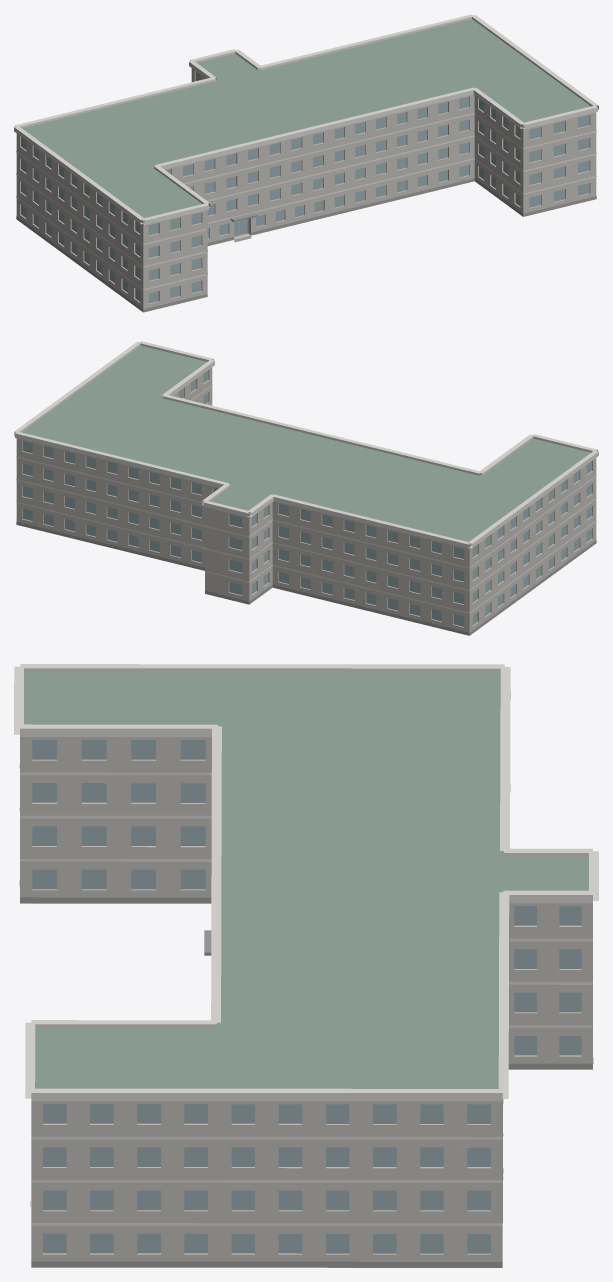
The picture shows the model from 3 angles, top to bottom: view 1: azimuth 30°, elevation 25°; view 2: azimuth 150°, elevation 25°; view 3: azimuth 270°, elevation 25°; orthographic projection. The views are drawn at different scales.
Parts seen in each view (by area): view 1: b115951794__wall, b115951794__roof, b115951794__trim, b115951794__glass, b115951794__base; view 2: b115951794__wall, b115951794__roof, b115951794__trim, b115951794__glass, b115951794__base; view 3: b115951794__roof, b115951794__wall, b115951794__trim, b115951794__glass, b115951794__base.
Boxes of the visible parts, x1=… form: b115951794__wall: x1=16, y1=68, x2=596, y2=311; b115951794__roof: x1=22, y1=19, x2=590, y2=221; b115951794__trim: x1=14, y1=14, x2=598, y2=290; b115951794__glass: x1=21, y1=71, x2=589, y2=303; b115951794__base: x1=16, y1=178, x2=596, y2=312; b115951794__wall: x1=16, y1=367, x2=596, y2=635; b115951794__roof: x1=22, y1=345, x2=590, y2=545; b115951794__trim: x1=14, y1=341, x2=598, y2=613; b115951794__glass: x1=22, y1=370, x2=591, y2=626; b115951794__base: x1=16, y1=521, x2=596, y2=635; b115951794__roof: x1=20, y1=672, x2=588, y2=1267; b115951794__wall: x1=20, y1=737, x2=592, y2=1261; b115951794__trim: x1=14, y1=664, x2=598, y2=1226; b115951794__glass: x1=32, y1=740, x2=581, y2=1253; b115951794__base: x1=19, y1=880, x2=593, y2=1267.
Bounding box in the file's own units: 76.62 × 15.15 × 44.16.
